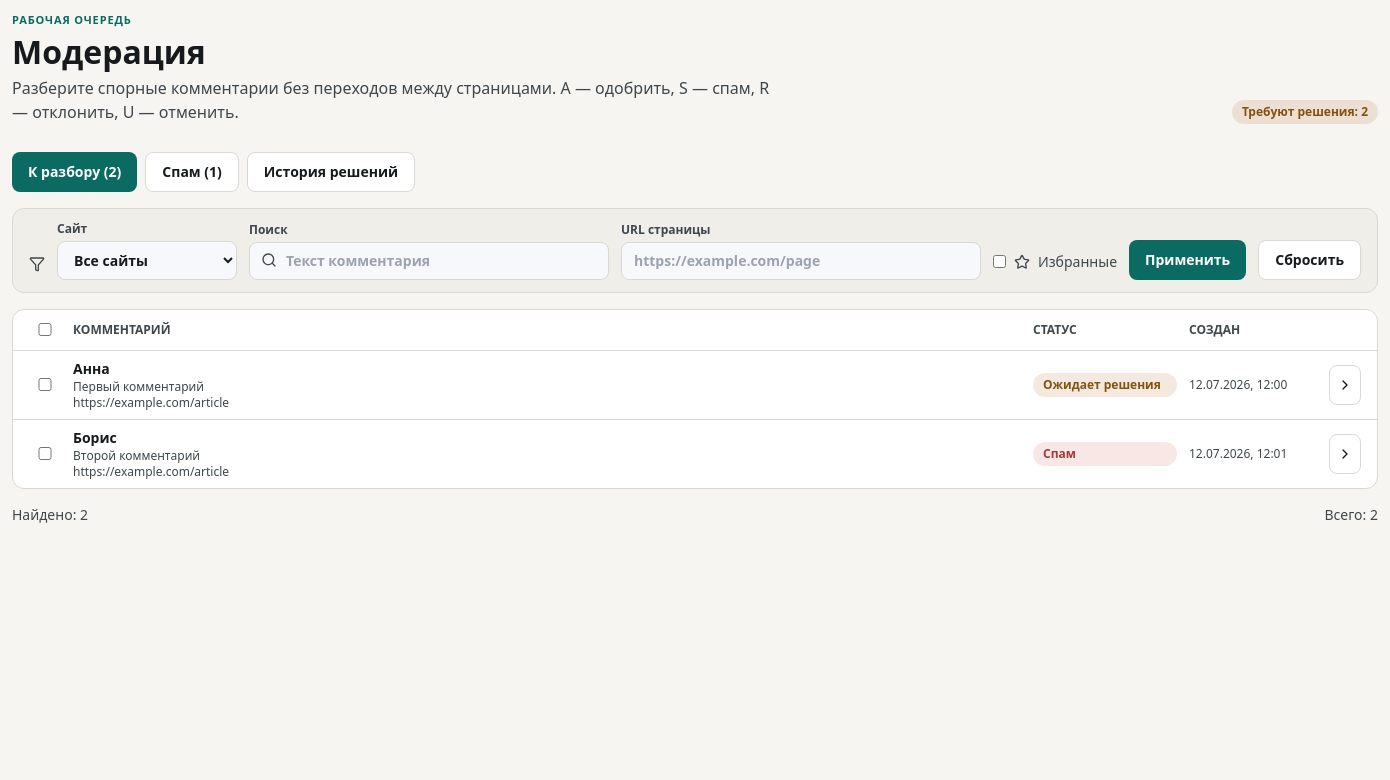
Test: страница модерации › отменяет массовую операцию целиком и перечисляет конфликты
This screenshot has width=1390, height=780.
Expected: the text "Первый комментарий" is shown, [73, 378, 204, 395]
Step 1. Click the checkbox named "Выбрать комментарий Анна" → (45, 385), box [29, 378, 61, 391]
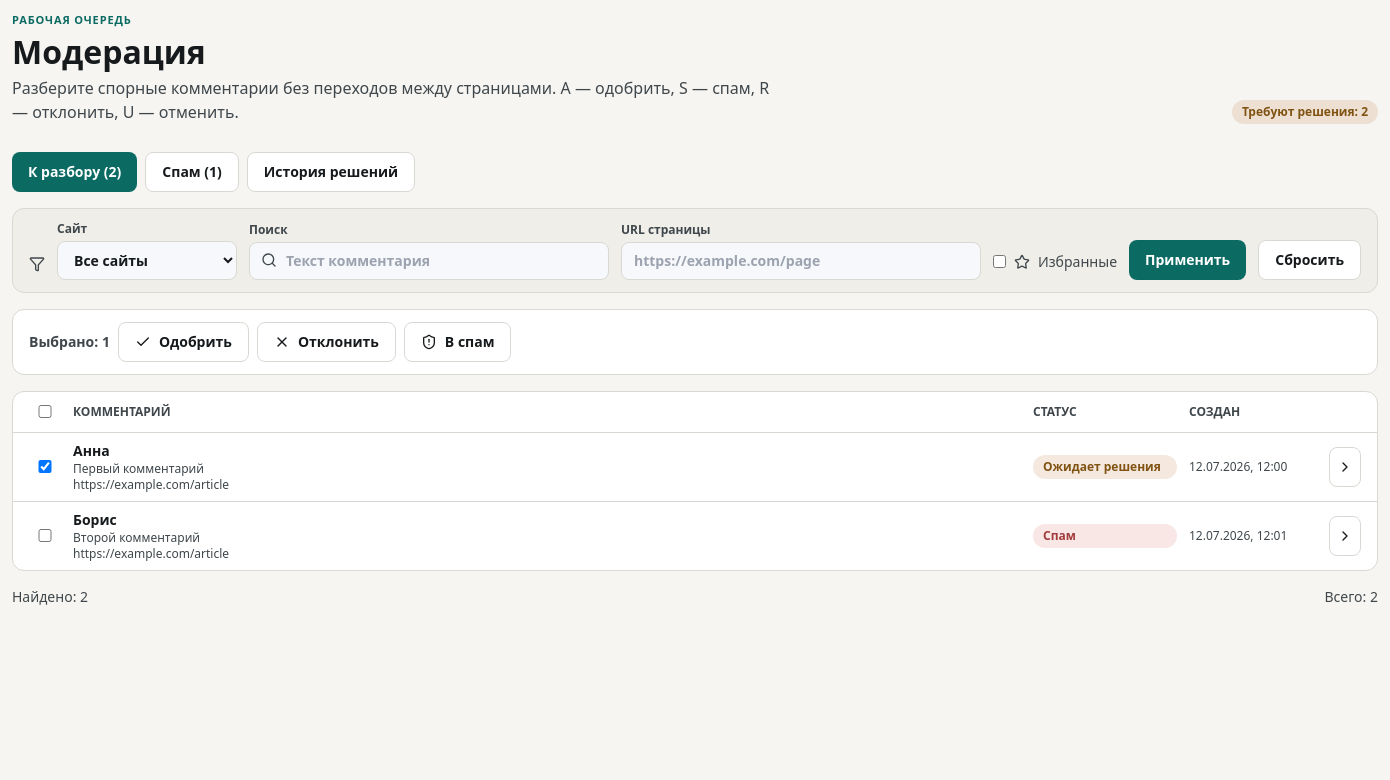
Step 2. Click the checkbox named "Выбрать комментарий Борис" → (45, 536), box [29, 529, 61, 542]
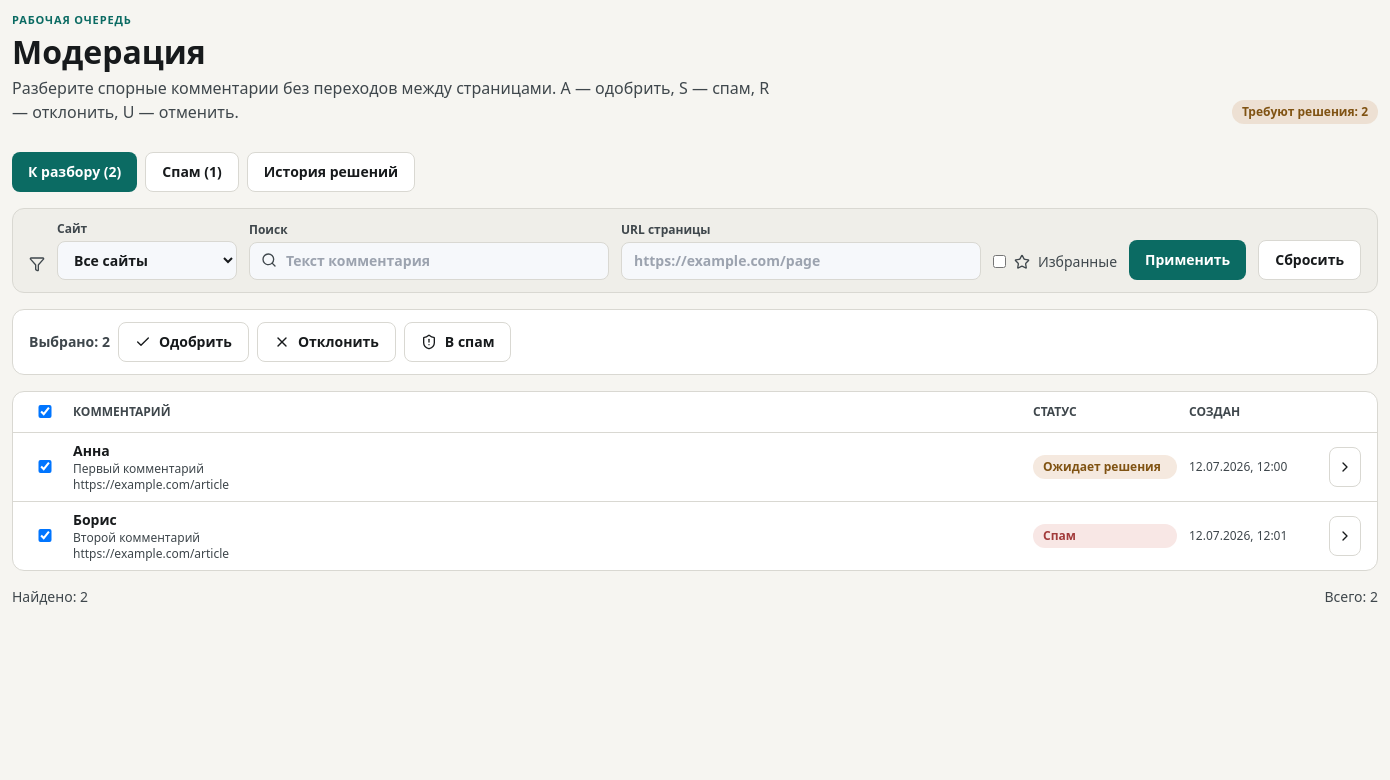
Step 3. Click the button "Одобрить" → (183, 342), box [118, 322, 249, 362]
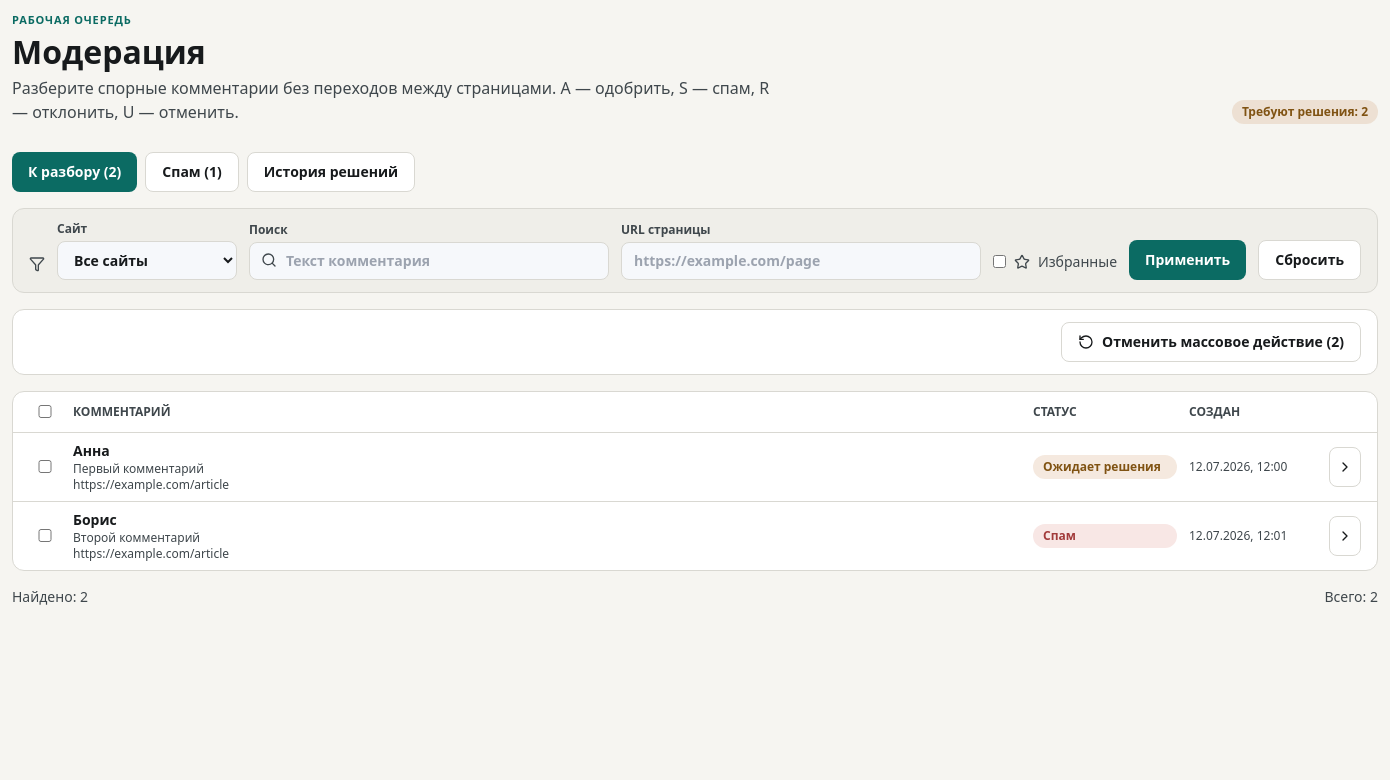
Step 4. Click the button "Отменить массовое действие (2)" → (1211, 342), box [1061, 322, 1361, 362]
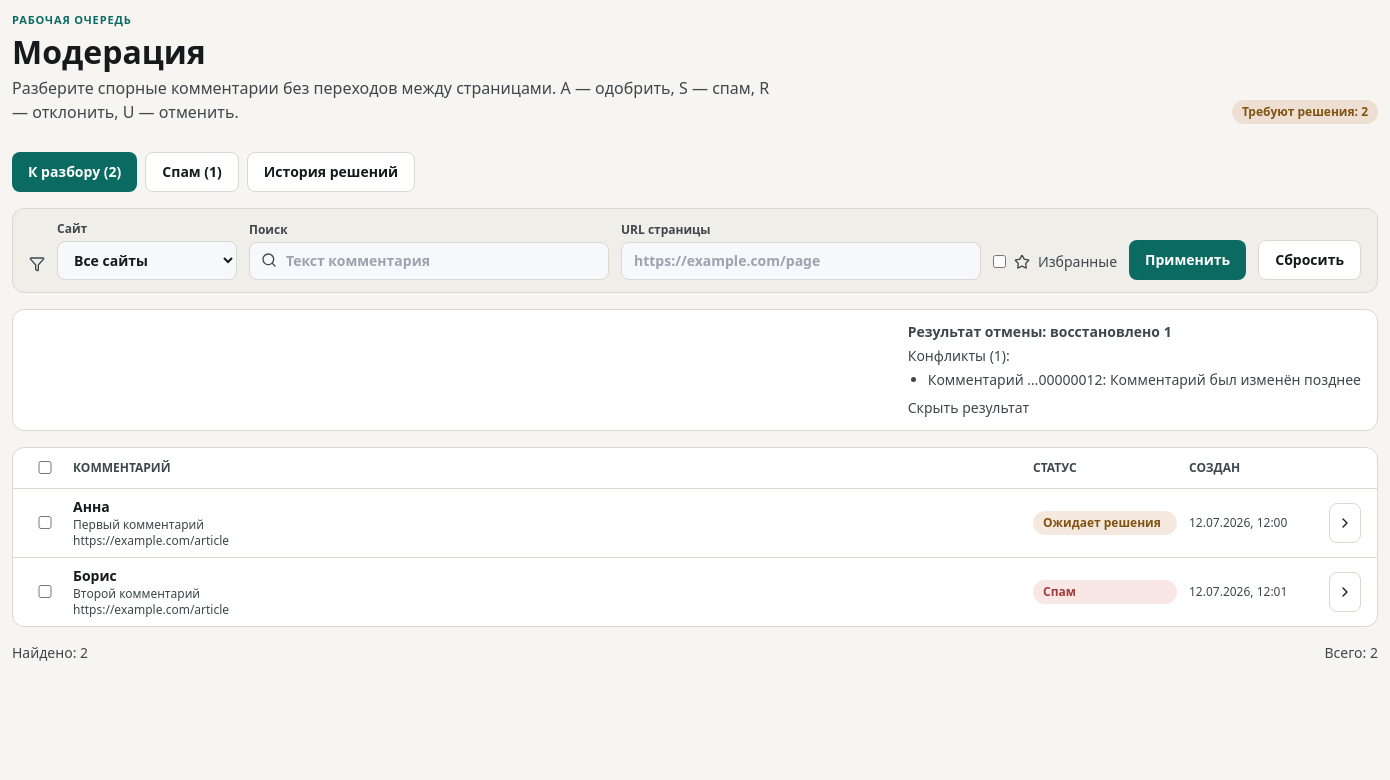
Result: the text "Результат отмены: восстановлено 1" is shown at [908, 322, 1172, 341]
Result: the text "Конфликты (1):" is shown at [908, 346, 1010, 365]
Result: the list item "Комментарий …00000012: Комментарий был изменён позднее" is shown at [928, 370, 1361, 390]
